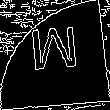M_S: (27, 28, 83, 82)
